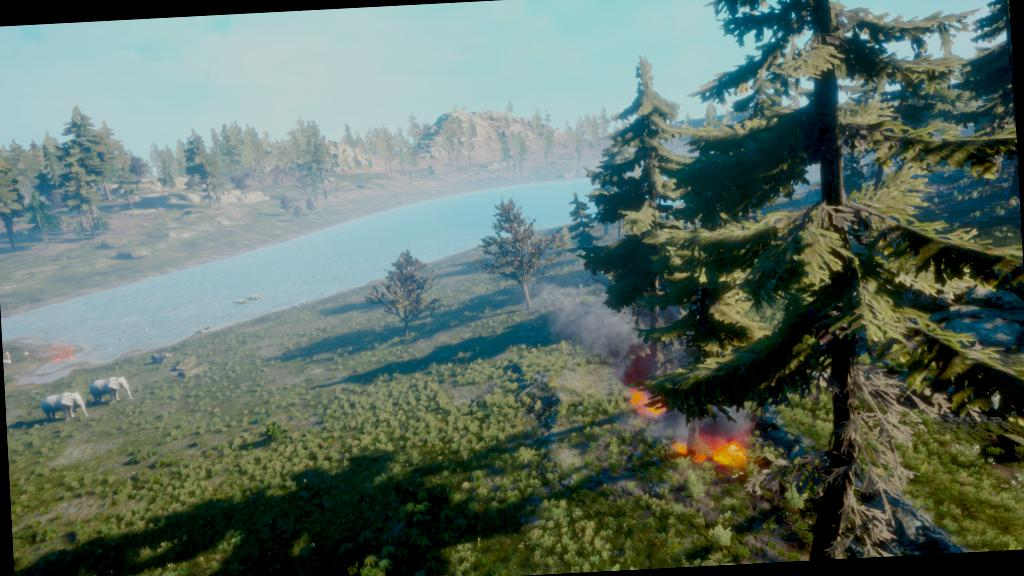Fire: (674, 428, 757, 476), (623, 384, 676, 422), (40, 336, 78, 368)
elephant: (38, 390, 91, 429), (86, 376, 140, 409)
hippopotamus: (146, 351, 174, 367)
human: (22, 349, 32, 362), (114, 332, 124, 344), (140, 326, 149, 337), (4, 350, 12, 362), (121, 326, 128, 337)
lion: (192, 328, 205, 338), (202, 324, 214, 332)
rhinoceros: (230, 296, 254, 308), (244, 292, 268, 303)
smoke: (546, 273, 673, 387), (650, 386, 755, 442)
